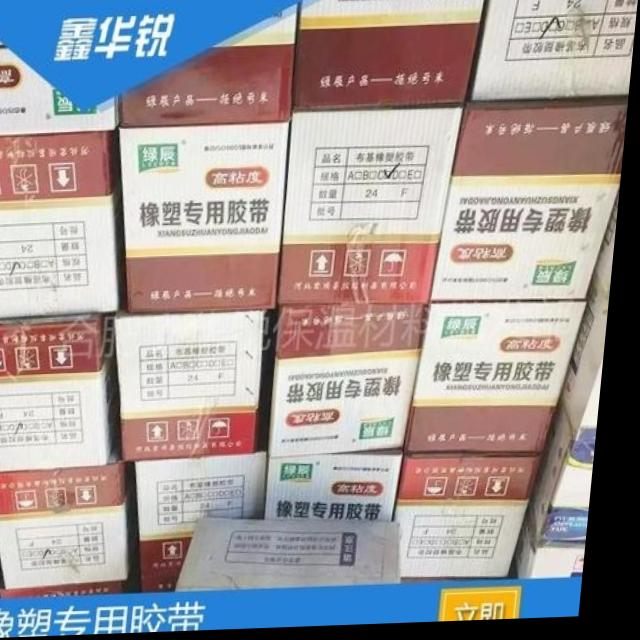box: (436, 101, 630, 306), (285, 112, 464, 309), (122, 126, 292, 314), (412, 307, 592, 458), (0, 132, 127, 325), (278, 308, 435, 461), (126, 314, 279, 463), (294, 0, 485, 113), (121, 7, 299, 128), (0, 318, 132, 473), (0, 467, 149, 593), (143, 454, 278, 593), (403, 458, 552, 583), (475, 0, 637, 102), (0, 41, 121, 135), (276, 450, 412, 526), (539, 405, 603, 550), (566, 280, 615, 451), (521, 515, 596, 582), (600, 192, 623, 299)
